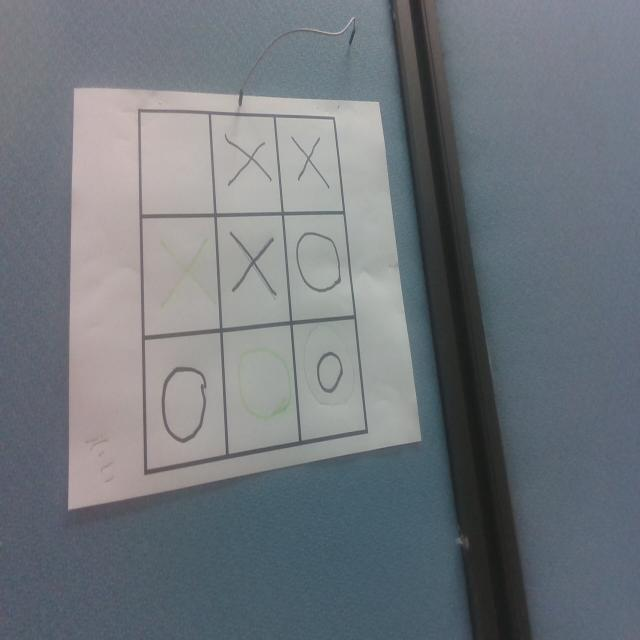null: (140, 112, 214, 217)
o: (239, 346, 296, 419), (160, 365, 208, 443), (296, 229, 342, 292), (316, 350, 344, 394)
table: (140, 108, 371, 467)
x: (161, 239, 212, 310), (230, 231, 275, 299), (224, 136, 272, 188), (292, 134, 330, 191)
